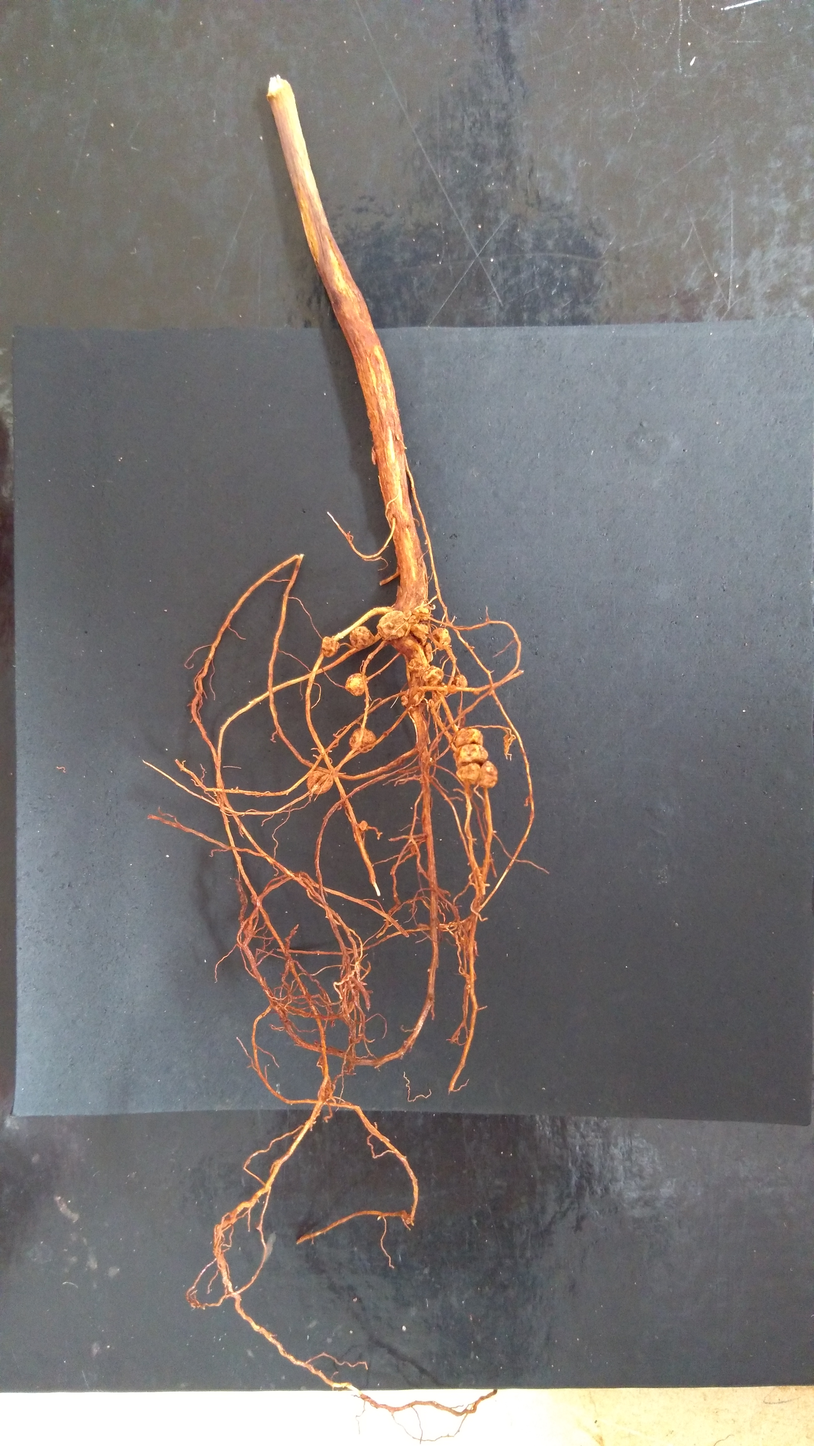nodule: (376, 610, 409, 641), (453, 743, 488, 769), (306, 769, 334, 795), (349, 727, 376, 753), (350, 626, 375, 650), (478, 760, 498, 789), (455, 763, 481, 785), (454, 728, 483, 747), (345, 673, 367, 697), (422, 665, 444, 687), (410, 623, 429, 646), (321, 636, 340, 658), (432, 627, 451, 648), (405, 687, 425, 706), (408, 657, 426, 678), (452, 674, 468, 689), (424, 642, 433, 662), (436, 682, 448, 696), (432, 692, 441, 708), (408, 614, 421, 624), (402, 609, 412, 620), (405, 1213, 414, 1225), (447, 684, 457, 694), (400, 695, 409, 706), (359, 820, 367, 831), (418, 606, 429, 614), (428, 698, 435, 709), (419, 614, 429, 621), (408, 704, 417, 711), (412, 608, 419, 615), (469, 645, 475, 651), (473, 691, 481, 695)
